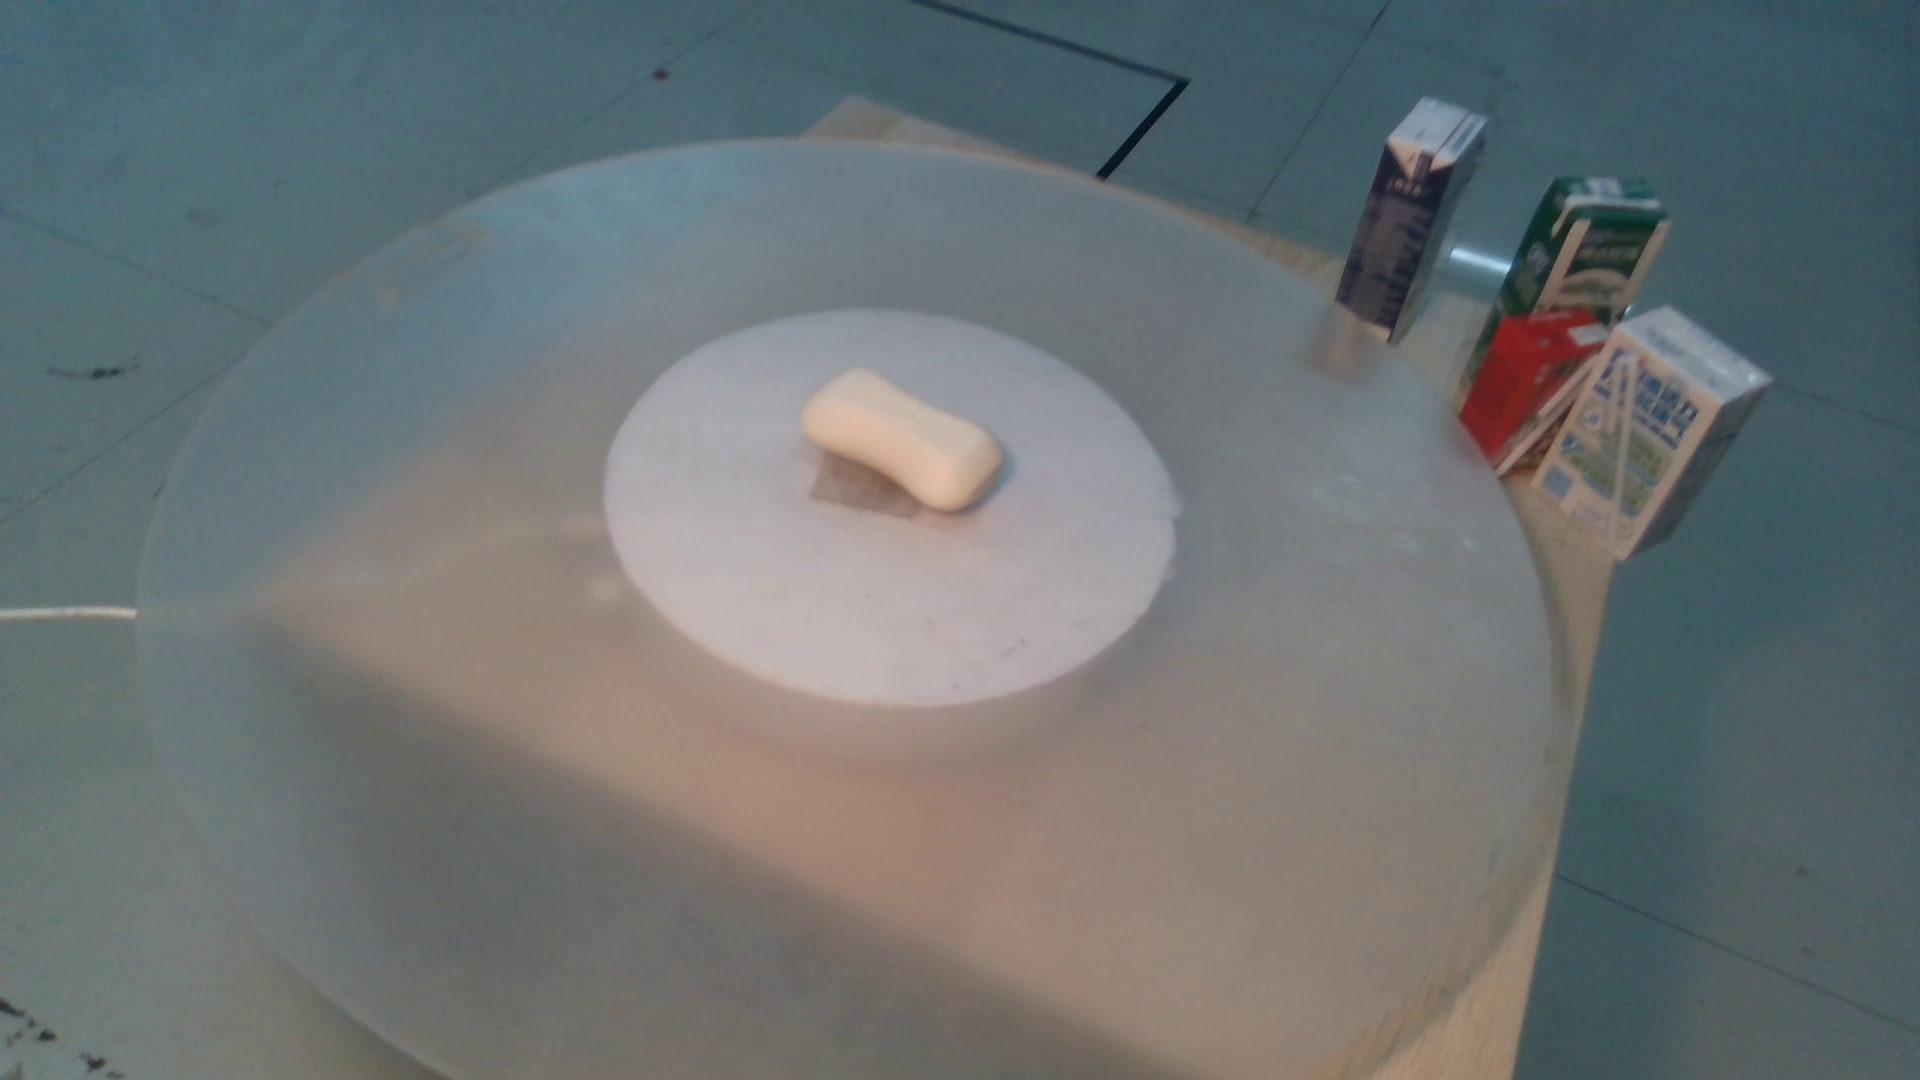CA003_1: (789, 368, 1058, 549)
